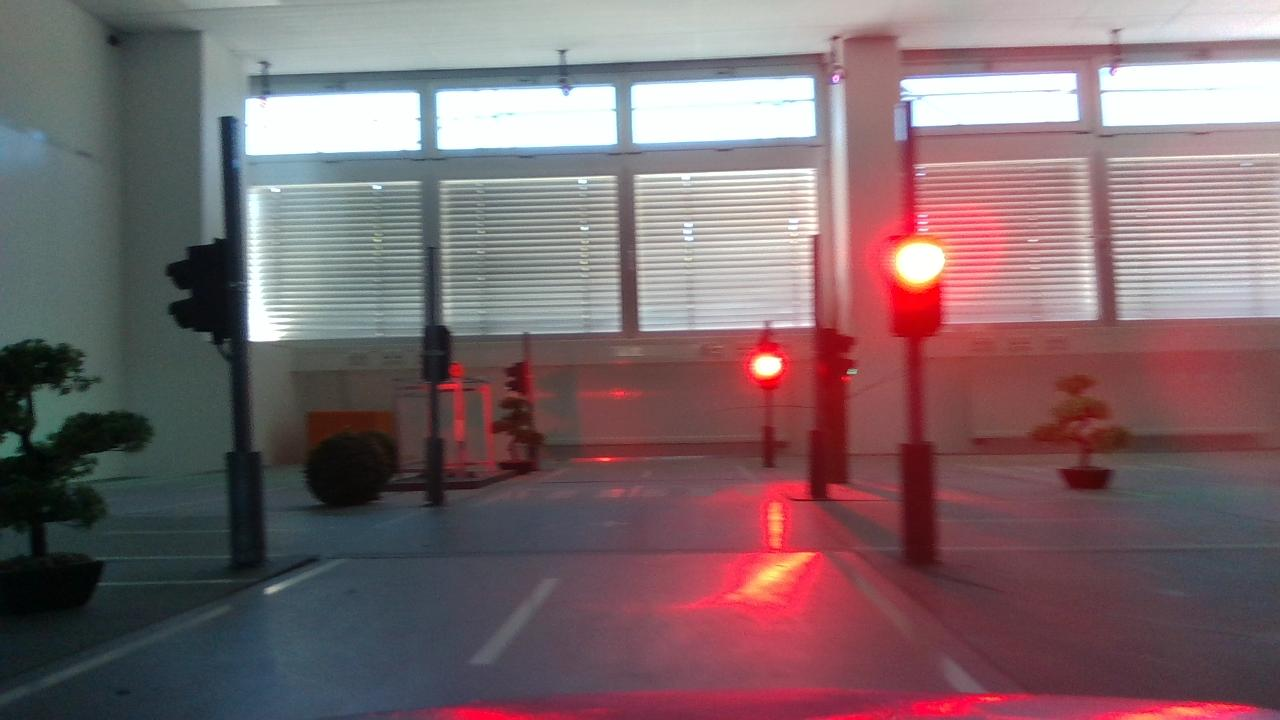traffic_light_red: (868, 226, 959, 350)
